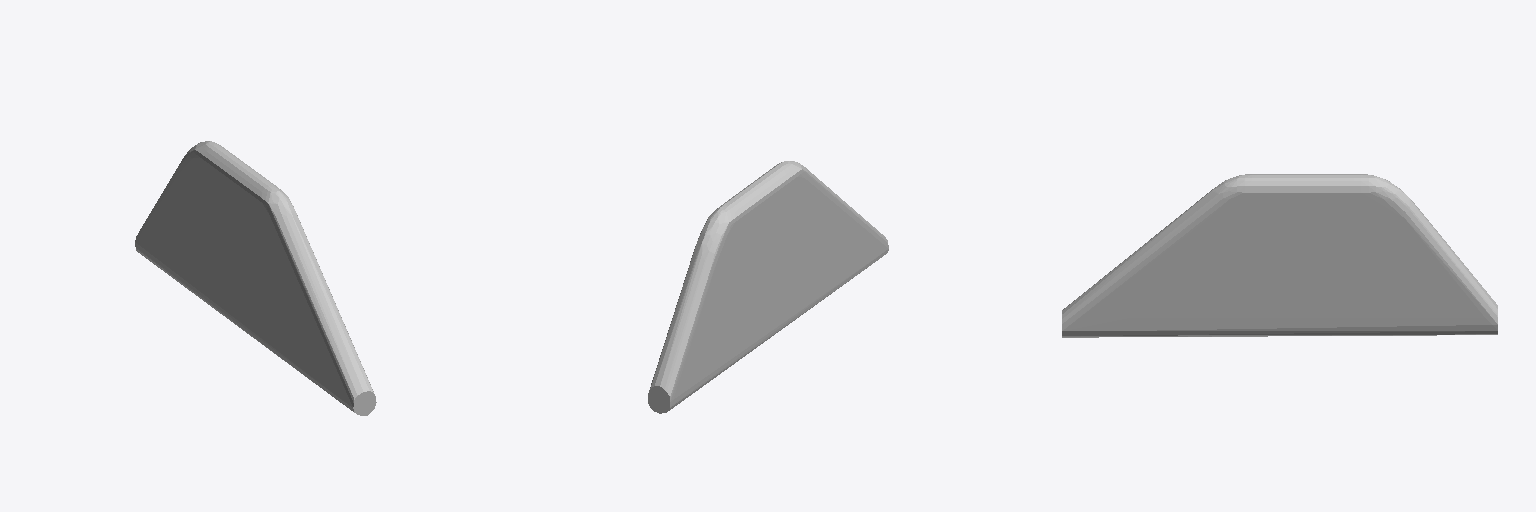
Rendered from dish_rack_collision_27.obj.
The picture shows the model from 3 angles: view 1: azimuth 30°, elevation 25°; view 2: azimuth 150°, elevation 25°; view 3: azimuth 270°, elevation 25°; orthographic projection.
Bounding box in the file's own units: 0.0086 × 0.0567 × 0.1394.